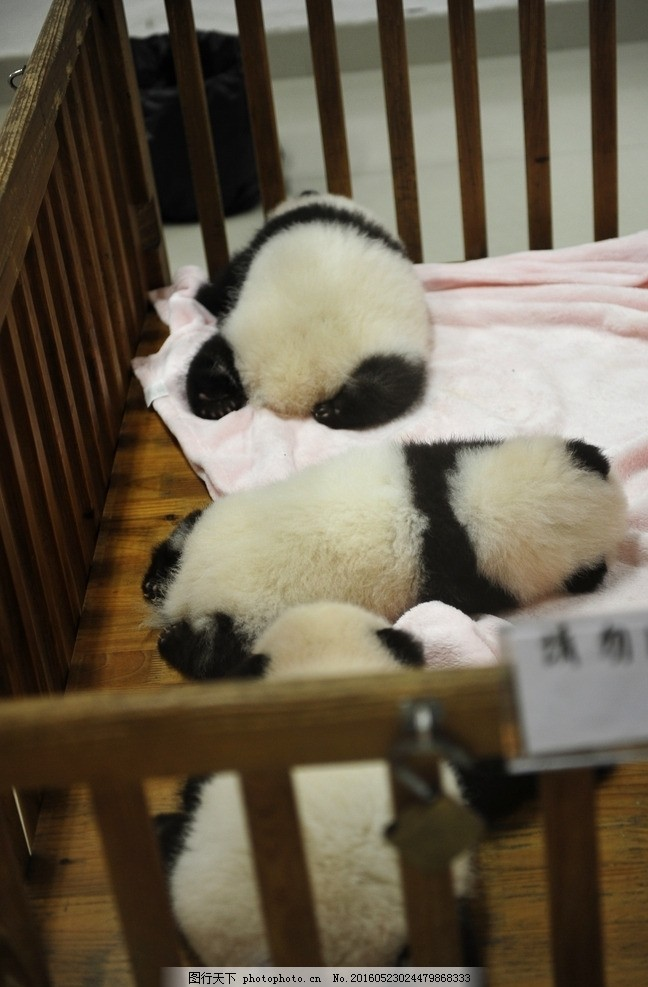panda: (124, 448, 632, 636), (199, 603, 468, 958), (169, 177, 471, 430)
